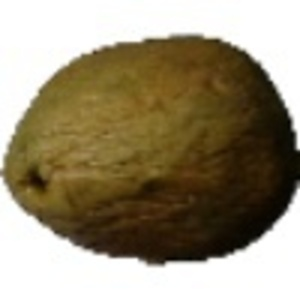mamão: (5, 28, 295, 267)
